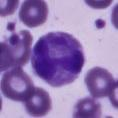E: (31, 30, 87, 86)
